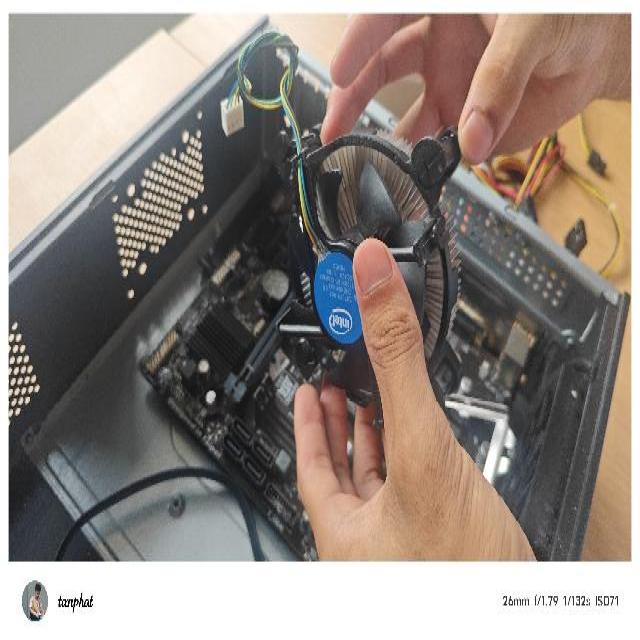CPU_Fan: (268, 120, 465, 432)
